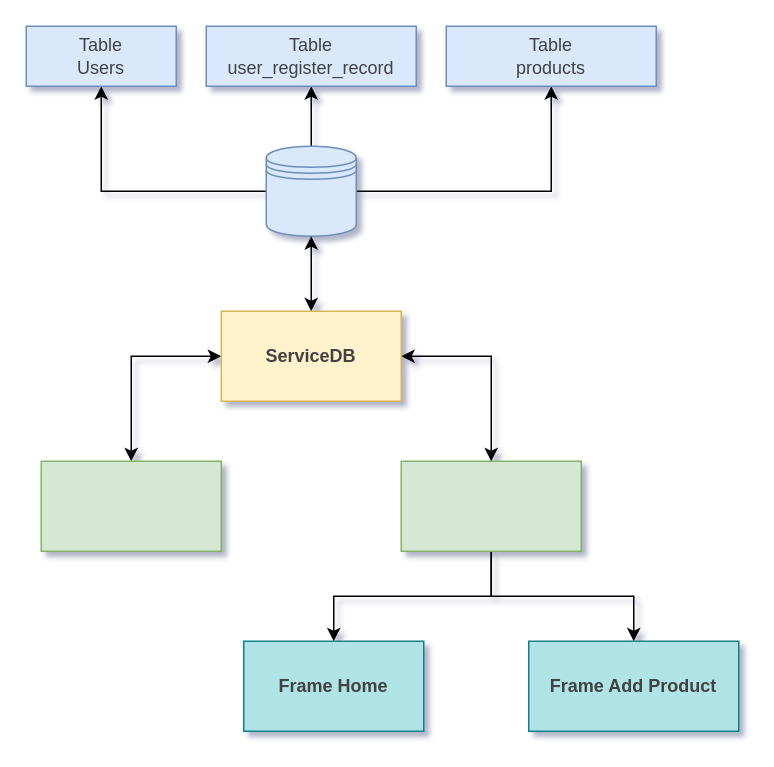
Some shapes in this 774 by 767 pixel diagram are drawn without their labels. The shapes that lost their labels are listed below. From the top down, each one's centre as x and y in pixels, then its label:
At pixel 310 190: "SQLITE".
At pixel 130 505: "LoginView".
At pixel 490 505: "HomeView".
